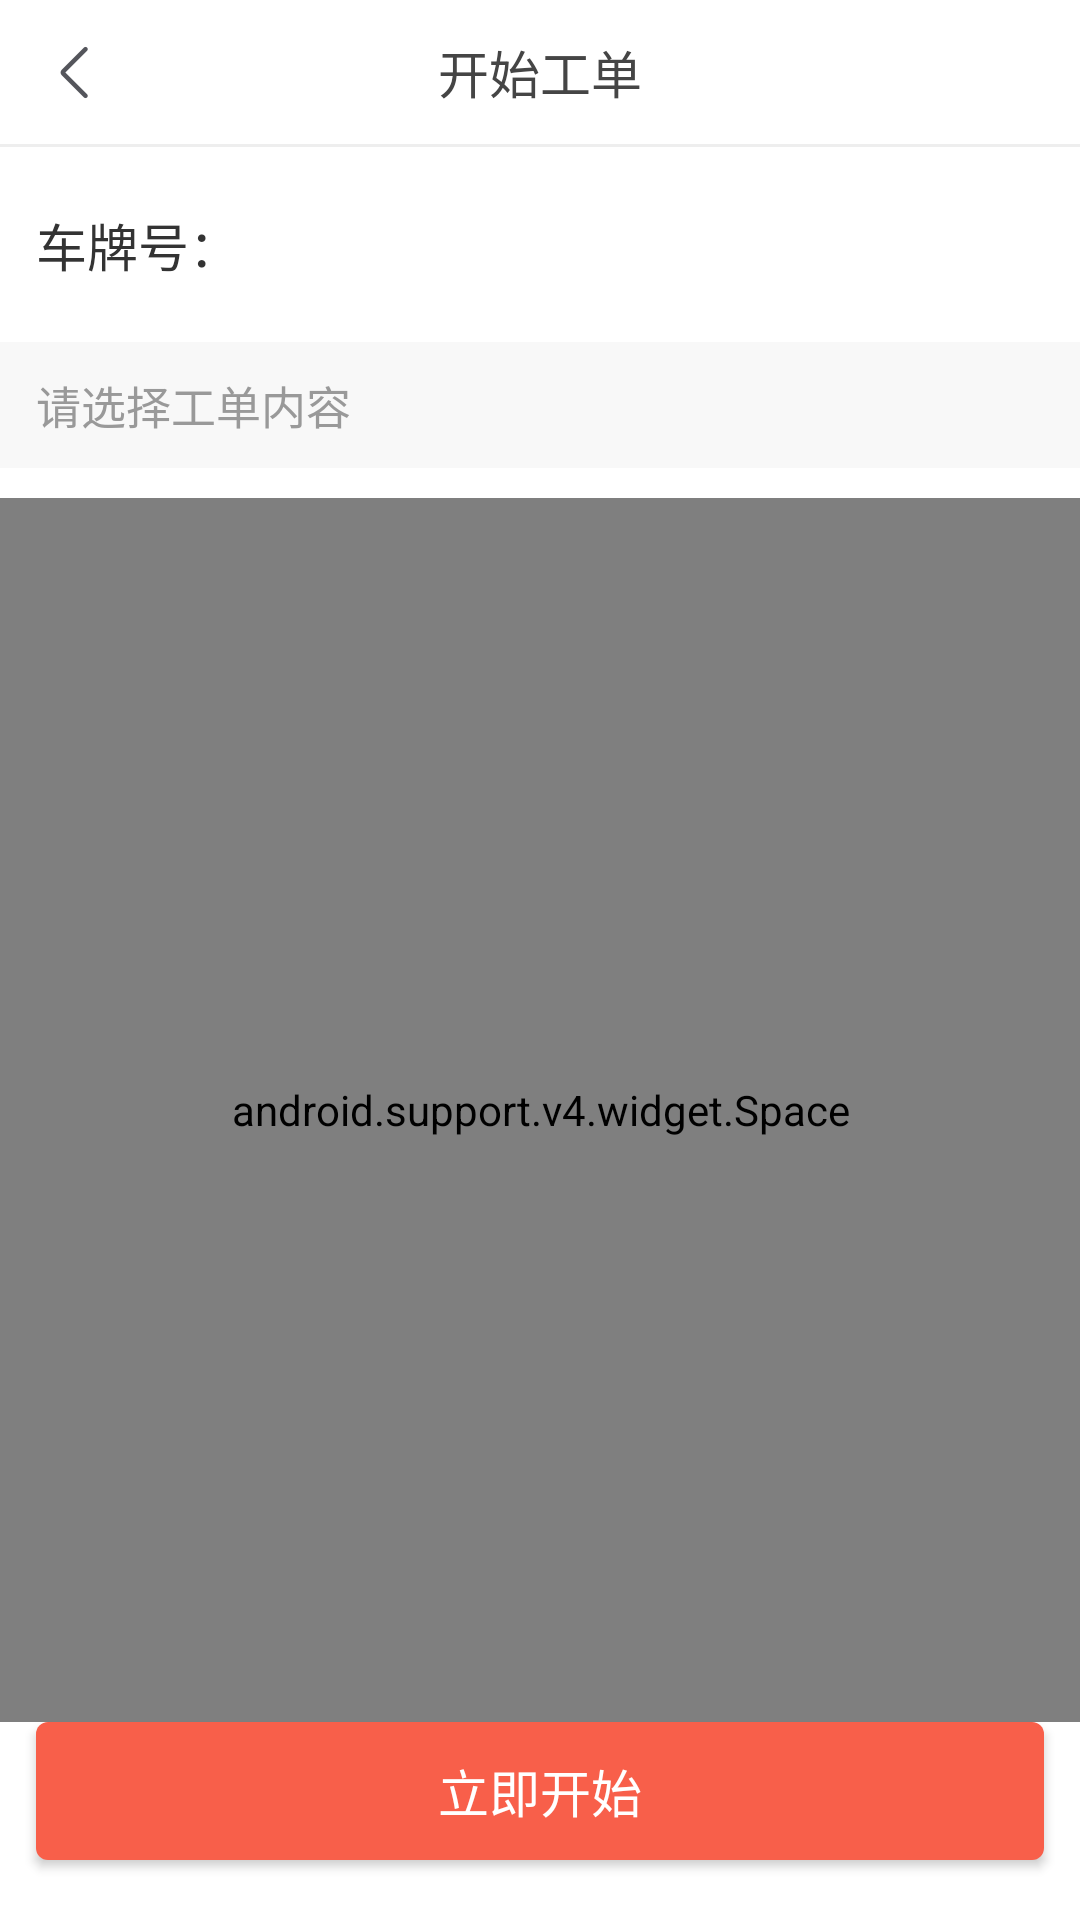

Screen size 1080 × 1920. Icon name, then its box in pixels as (x1, y1, x2, y2):
back: (60, 47, 88, 98)
